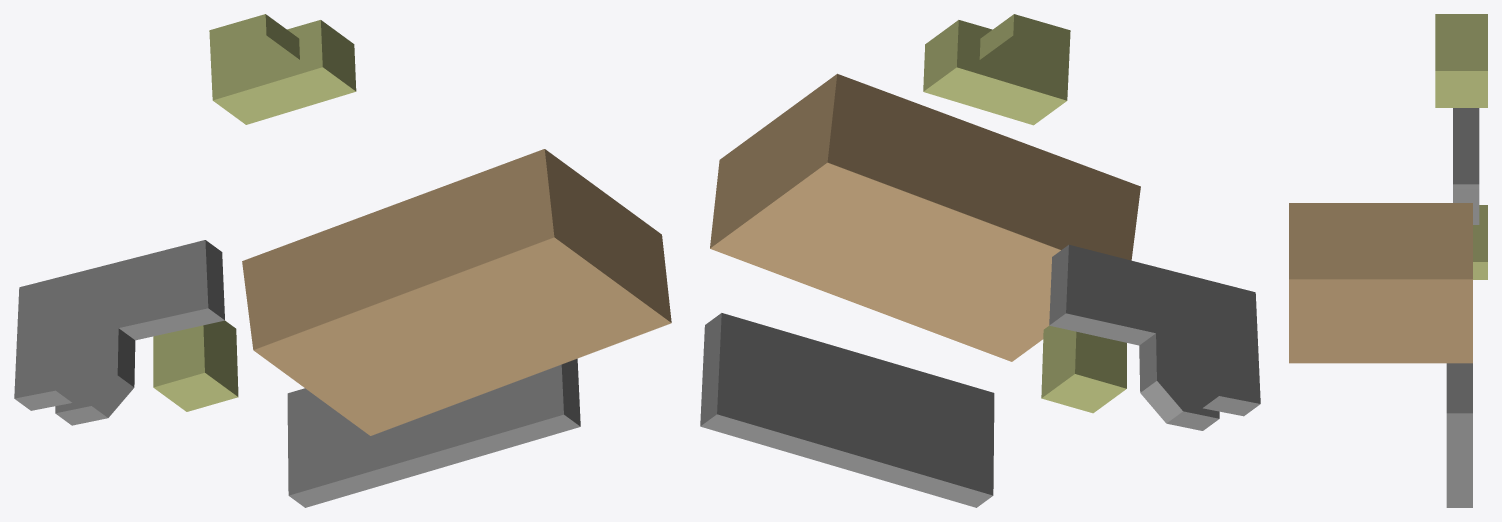
The picture shows the model from 3 angles, left to right: view 1: azimuth 30°, elevation 25°; view 2: azimuth 150°, elevation 25°; view 3: azimuth 270°, elevation 25°; orthographic projection. The views are drawn at different scales.
Parts seen in each view (by area): view 1: 0_1_0_0_2_2_0_1_2; view 2: 0_1_0_0_2_2_0_1_2; view 3: 0_1_0_0_2_2_0_1_2.
Boxes of the visible parts, x1=… form: 0_1_0_0_2_2_0_1_2: x1=14, y1=14, x2=671, y2=507; 0_1_0_0_2_2_0_1_2: x1=700, y1=14, x2=1260, y2=507; 0_1_0_0_2_2_0_1_2: x1=1289, y1=14, x2=1487, y2=507.
Size of the model in its own units: 56.41 by 47.21 by 22.7.
